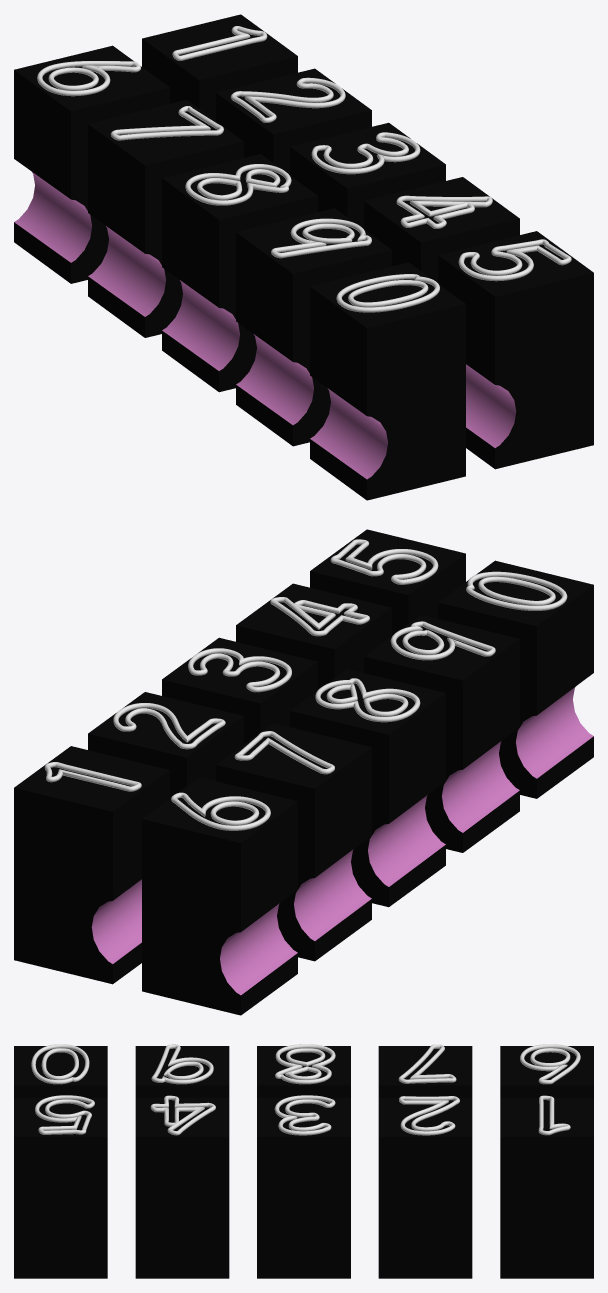
Rendered from Number.fbx.
3 views of the same model, one above another, from view 1: azimuth 30°, elevation 25°; view 2: azimuth 150°, elevation 25°; view 3: azimuth 270°, elevation 25° (orthographic). The views are drawn at different scales.
Parts seen in each view (by area): view 1: ABCWord072, ABCWord067, ABCWord069, ABCWord068, ABCWord071, ABCWord070, ABCWord063, ABCWord065, ABCWord066, ABCWord064, Text113, Text115 (+8 smaller); view 2: ABCWord068, ABCWord063, ABCWord069, ABCWord071, ABCWord072, ABCWord070, ABCWord064, ABCWord066, ABCWord065, ABCWord067, Text113, Text115 (+8 smaller); view 3: ABCWord063, ABCWord066, ABCWord064, ABCWord065, ABCWord067, ABCWord069, ABCWord071, ABCWord072, ABCWord068, ABCWord070, Text113, Text110 (+8 smaller).
Boxes of the visible parts, x1,y1,x2,y2 form: ABCWord072: (310,262,465,500); ABCWord067: (438,231,593,469); ABCWord069: (88,100,243,337); ABCWord068: (14,45,169,283); ABCWord071: (236,208,391,446); ABCWord070: (162,154,317,392); ABCWord063: (142,14,297,120); ABCWord065: (290,122,445,228); ABCWord066: (364,177,519,282); ABCWord064: (216,68,371,174); Text113: (185,164,291,205); Text115: (336,274,439,312); ABCWord068: (142,777,297,1015); ABCWord063: (14,746,169,984); ABCWord069: (216,723,371,961); ABCWord071: (364,615,519,852); ABCWord072: (438,560,593,798); ABCWord070: (290,669,445,907); ABCWord064: (88,692,243,798); ABCWord066: (236,583,391,689); ABCWord065: (162,637,317,743); ABCWord067: (310,529,465,635); Text113: (315,678,420,722); Text115: (466,571,567,610); ABCWord063: (500,1097,593,1278); ABCWord066: (135,1097,229,1278); ABCWord064: (378,1097,472,1278); ABCWord065: (257,1097,350,1278); ABCWord067: (14,1097,107,1278); ABCWord069: (378,1046,472,1097); ABCWord071: (135,1046,229,1097); ABCWord072: (14,1046,107,1097); ABCWord068: (500,1046,593,1097); ABCWord070: (257,1046,350,1097); Text113: (275,1044,335,1084); Text110: (35,1095,94,1134).
Size of the model in its own units: 8.86 by 6.59 by 23.86.
